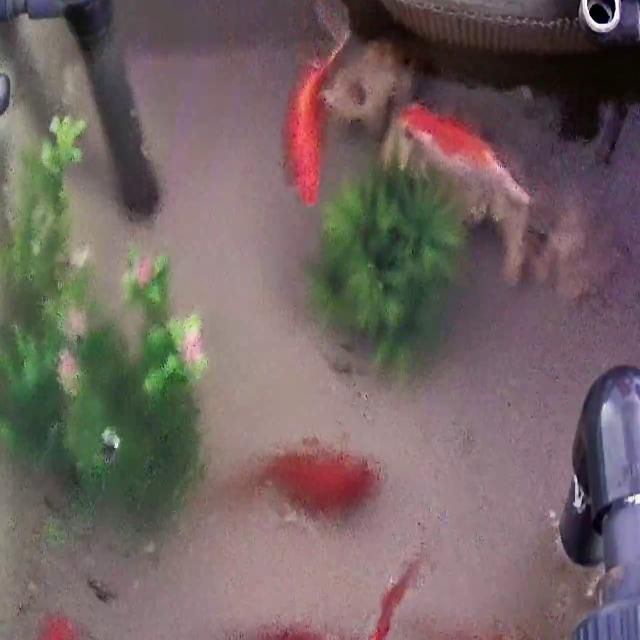fish: (214, 444, 368, 518), (286, 548, 402, 640), (397, 103, 513, 194), (282, 45, 330, 207), (418, 616, 521, 640), (236, 623, 354, 640)
